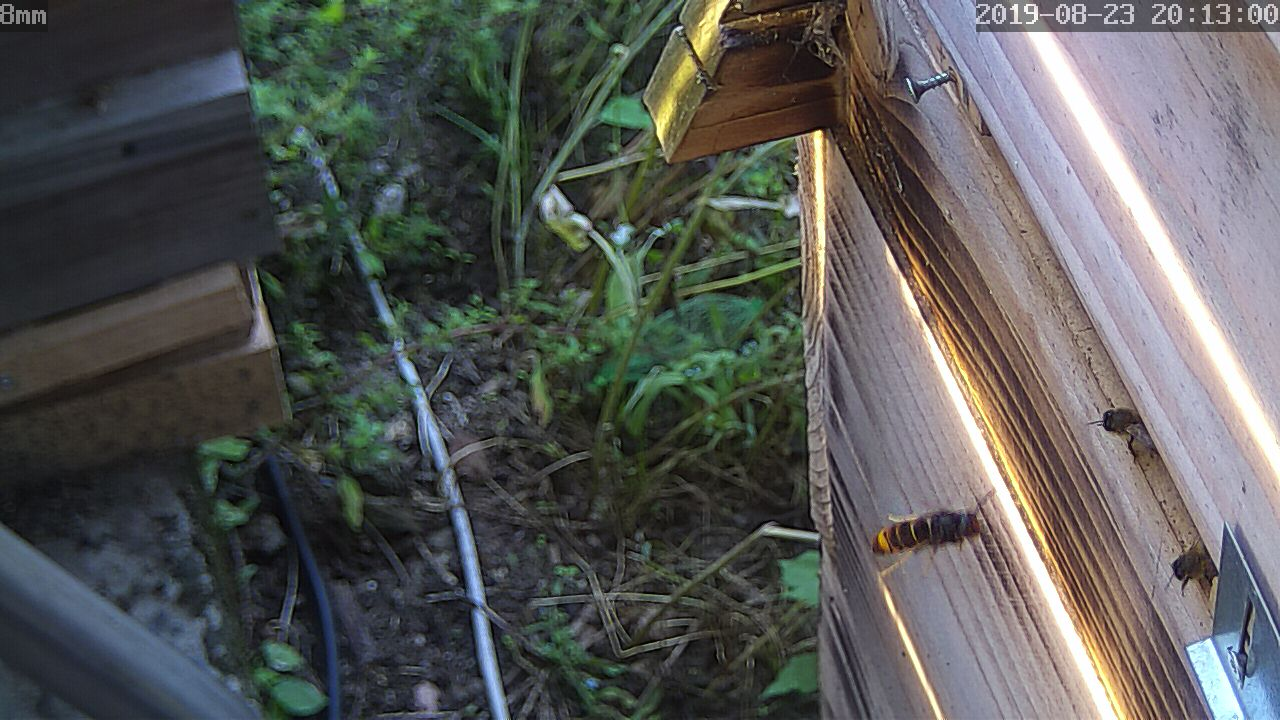bee: (1090, 402, 1149, 460), (1167, 536, 1220, 593)
hornet: (862, 502, 987, 571)
